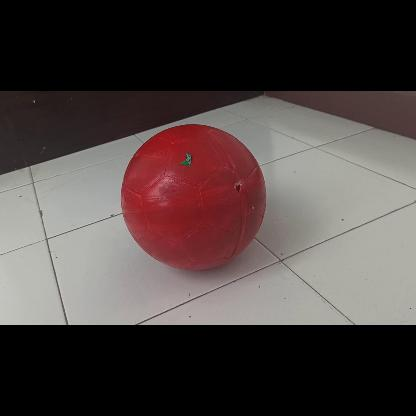red_ball: (120, 125, 268, 273)
